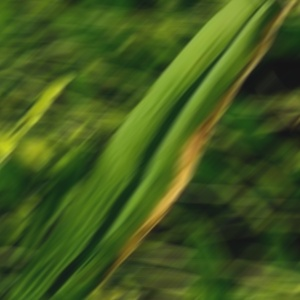Leaf_Blast: (93, 33, 233, 268)
